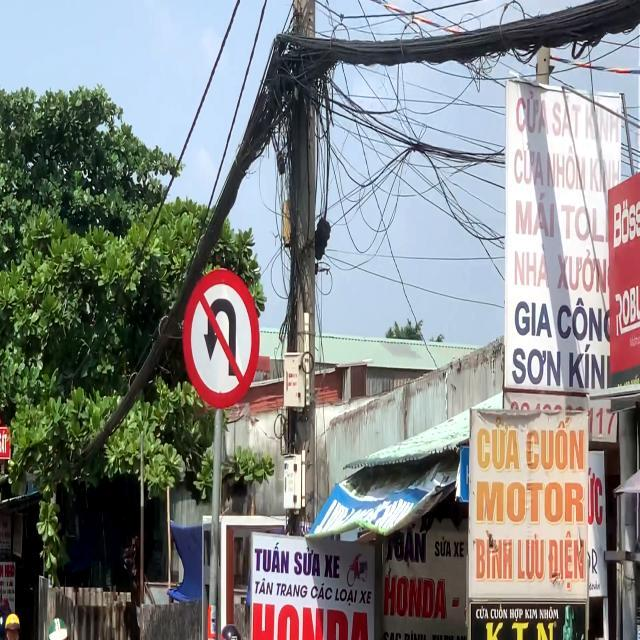Cam quay dau xe: (182, 268, 260, 409)
